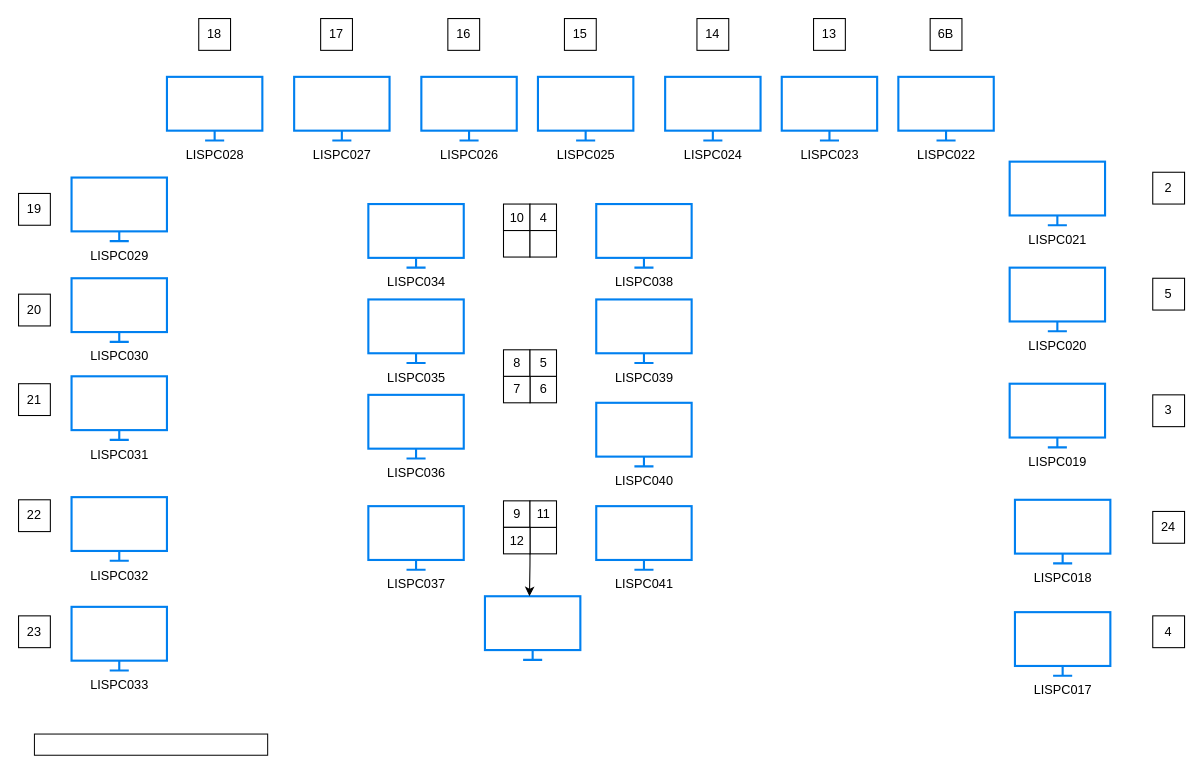
Some shapes in this 1203 by 774 pixel diagram are drawn without their labels. Here are the shapes that lost their labels. From the top down, the centre of each, then its label:
(x=532, y=627): LISPC042
(x=150, y=744): ΤΕΚΜΗΡΊΩΣΗ ΕΡΓΑΣΤΗΡΙΟΥ Κ7.005
